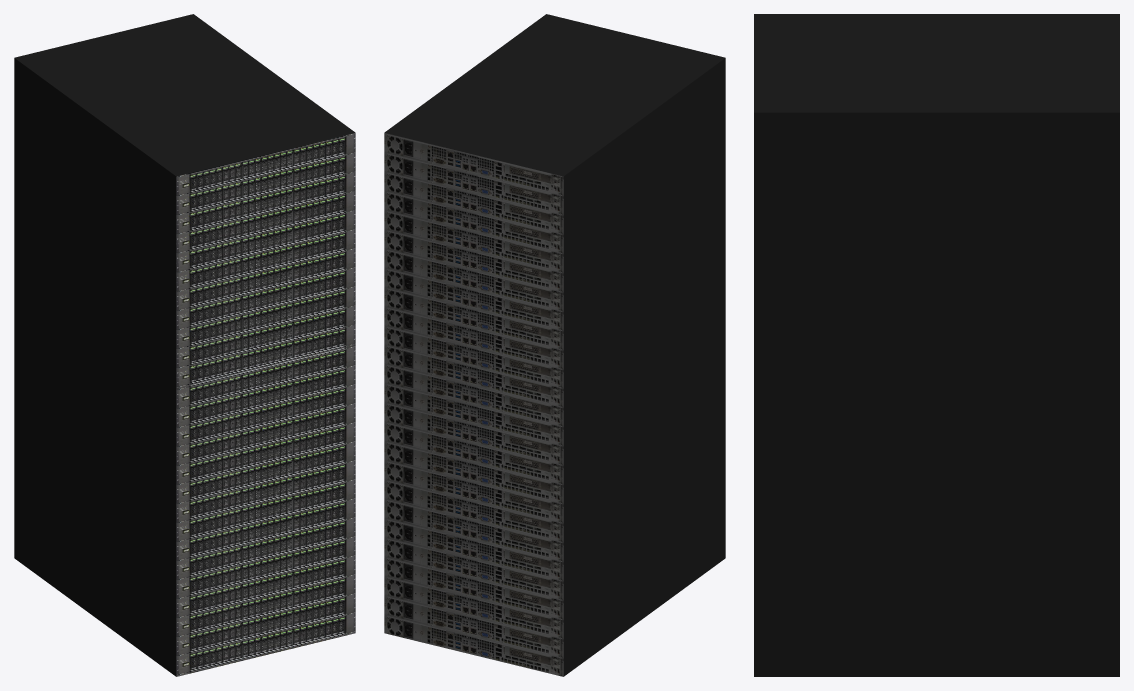
The model's file is ADR26.fbx.
The picture shows the model from 3 angles, left to right: view 1: azimuth 30°, elevation 25°; view 2: azimuth 150°, elevation 25°; view 3: azimuth 270°, elevation 25°; orthographic projection. The views are drawn at different scales.
Visible parts, largest first — view 1: ADR26; view 2: ADR26; view 3: ADR26.
Part boxes in pixels (x1=…): ADR26: x1=14, y1=14, x2=355, y2=676; ADR26: x1=384, y1=14, x2=725, y2=676; ADR26: x1=754, y1=14, x2=1119, y2=676.
Bounding box in the file's own units: 434 × 1157 × 680.
3 materials, 2 textured.
